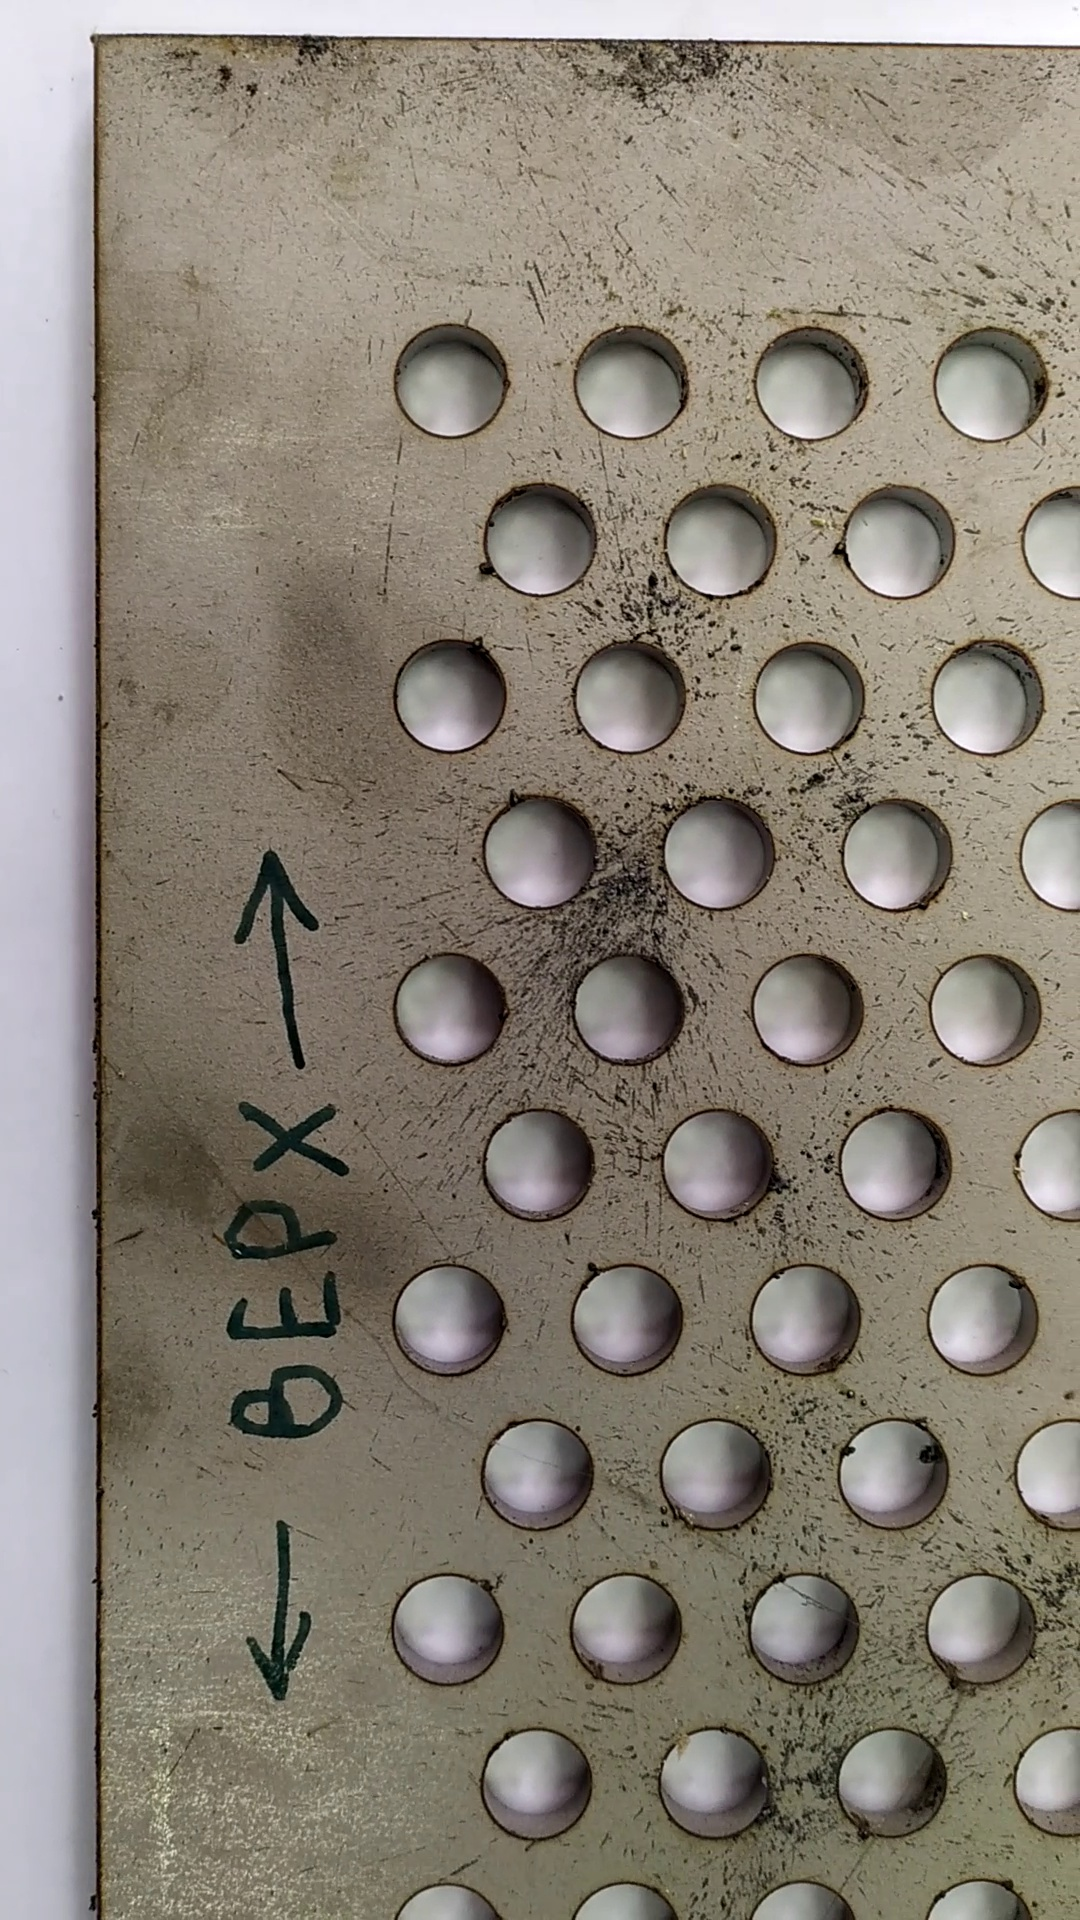Hole: (825, 1098, 973, 1234), (469, 785, 611, 922), (381, 1261, 534, 1385), (564, 316, 705, 448), (385, 313, 518, 450), (746, 313, 880, 450), (926, 319, 1065, 450), (828, 475, 965, 607), (378, 634, 518, 764), (645, 1411, 785, 1540), (661, 468, 791, 605), (469, 1101, 608, 1230), (920, 945, 1055, 1077), (560, 1258, 696, 1389), (471, 1720, 607, 1850), (378, 1568, 516, 1697), (559, 1571, 696, 1697), (825, 1720, 963, 1846), (567, 948, 705, 1073), (567, 628, 698, 760), (828, 1408, 961, 1538), (742, 1261, 876, 1389), (745, 632, 873, 764), (653, 793, 783, 920), (928, 634, 1054, 766), (385, 945, 518, 1069), (918, 1261, 1051, 1385), (745, 944, 866, 1079), (659, 1098, 781, 1232), (836, 787, 955, 922), (657, 1720, 781, 1846), (738, 1568, 866, 1691), (473, 479, 604, 599), (918, 1563, 1038, 1693), (477, 1414, 612, 1528)
